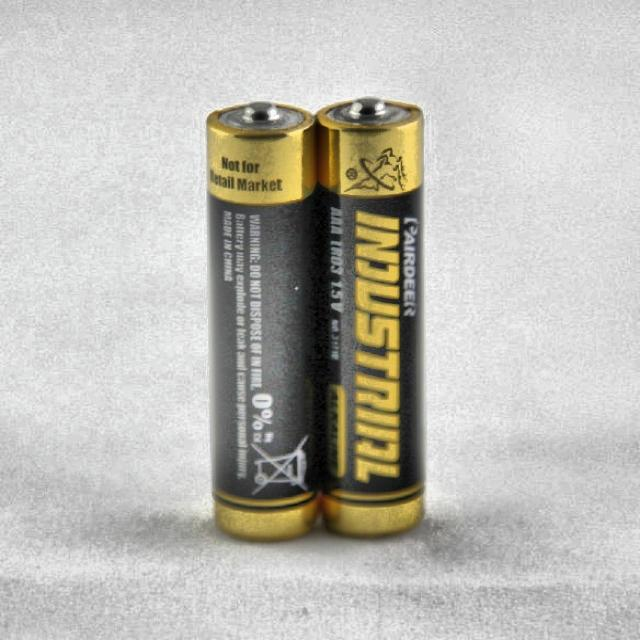Non-Valuable Waste - Batteries: (208, 102, 318, 540), (316, 98, 423, 536)
